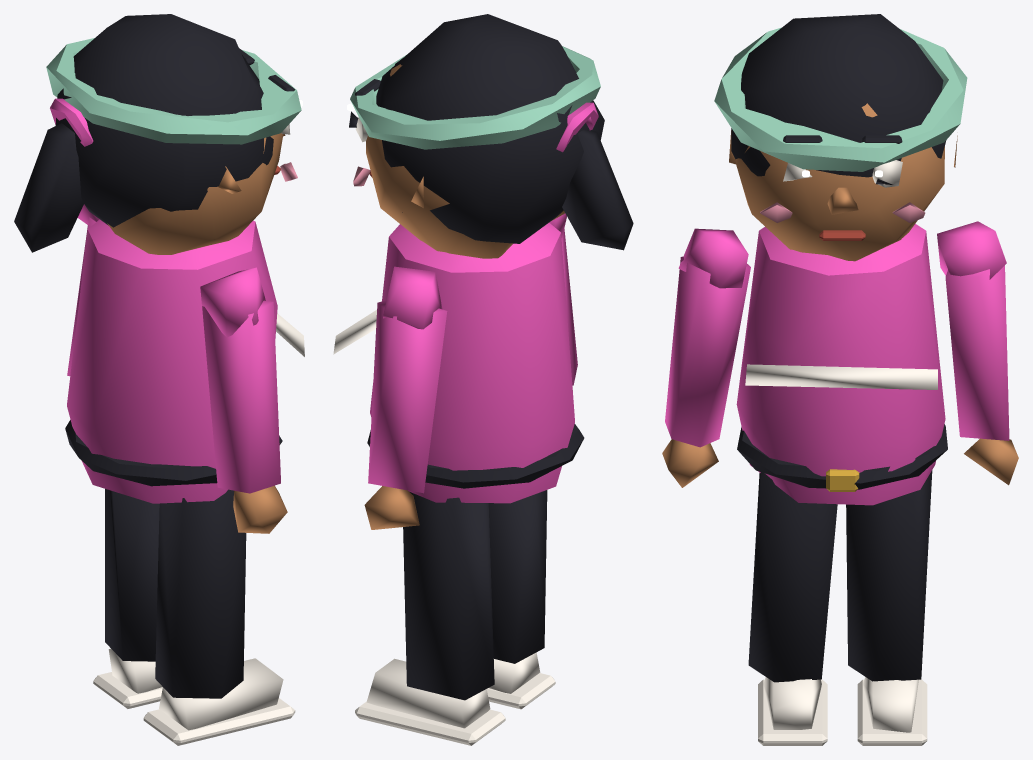
Rendered from ped_jogger.glb.
3 renders of one model, left to right at view 1: azimuth 30°, elevation 25°; view 2: azimuth 150°, elevation 25°; view 3: azimuth 270°, elevation 25°, orthographic.
Parts seen in each view (by area): view 1: ped_jogger; view 2: ped_jogger; view 3: ped_jogger.
Part boxes in pixels (bbox=[...]): ped_jogger: bbox=[14, 14, 304, 745]; ped_jogger: bbox=[333, 14, 633, 745]; ped_jogger: bbox=[662, 14, 1018, 745].
Bounding box in the file's own units: 0.5566 × 1.39 × 0.6556.
Materials: 1 (1 with a texture image).
